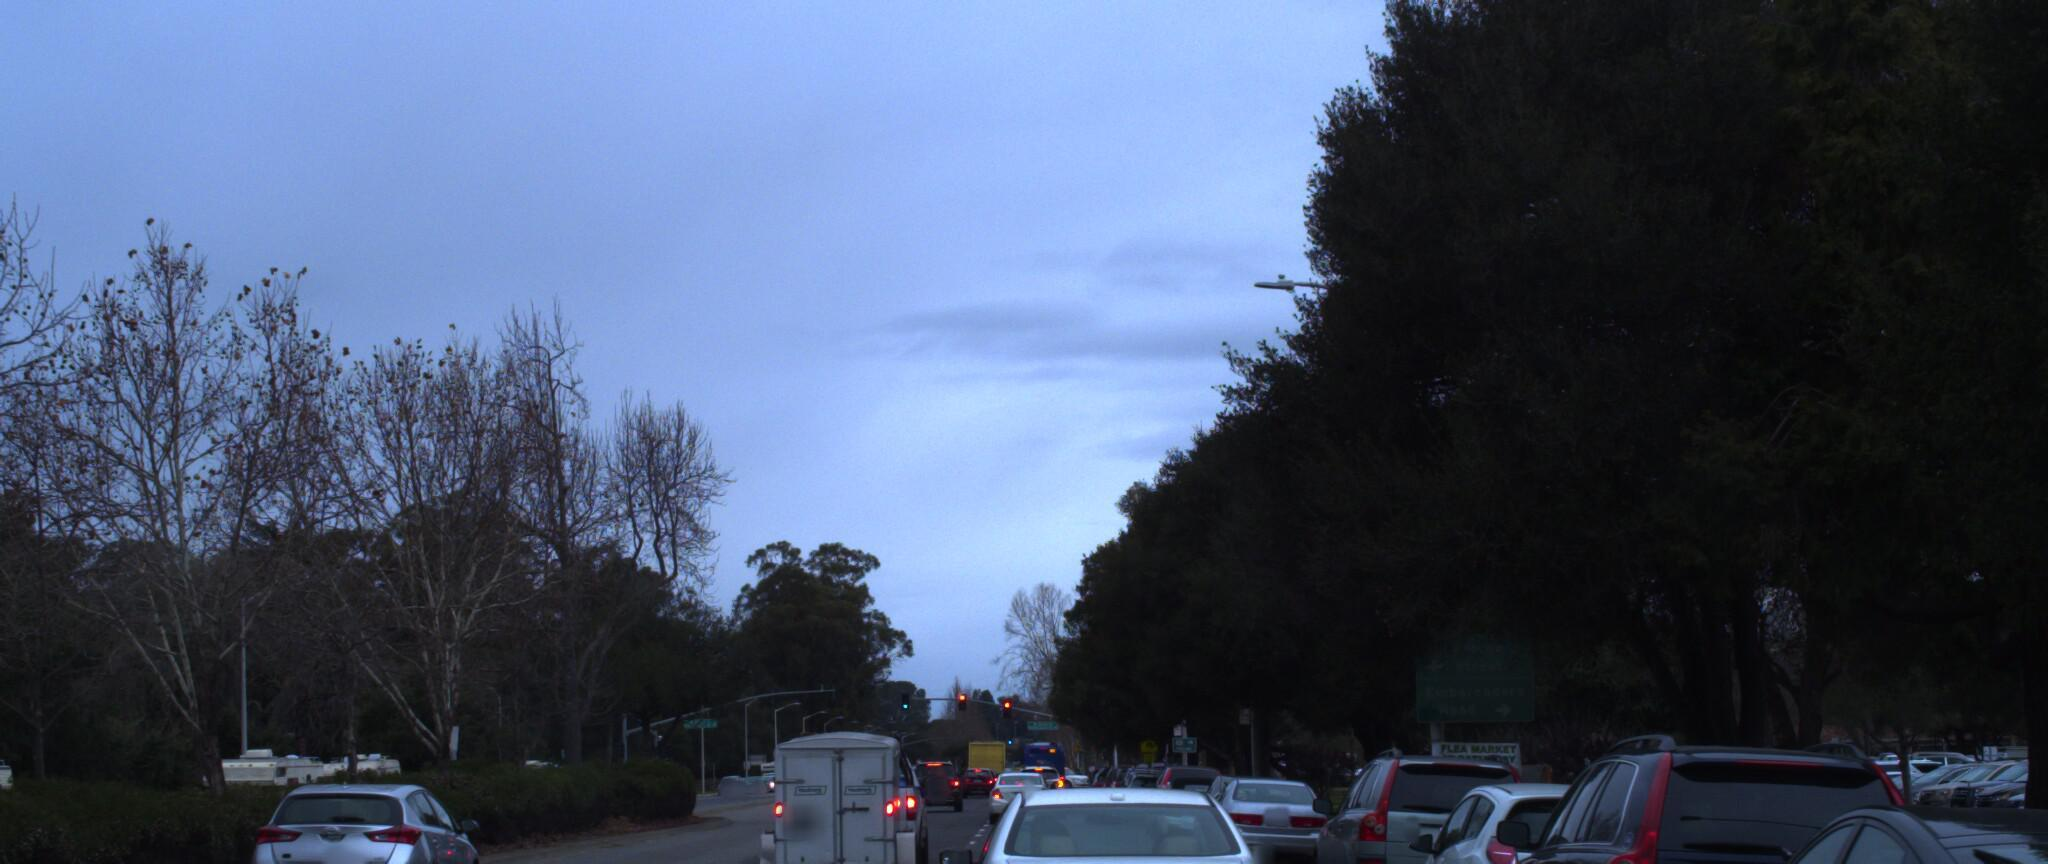car: (1467, 714, 1989, 864), (1290, 724, 1556, 864), (952, 764, 1297, 864), (1650, 778, 2048, 864), (1384, 764, 1690, 864), (752, 713, 935, 864), (246, 765, 492, 864), (1190, 758, 1327, 863), (2000, 619, 2048, 864), (990, 752, 1058, 810)
other_vehicle: (0, 749, 22, 864)
